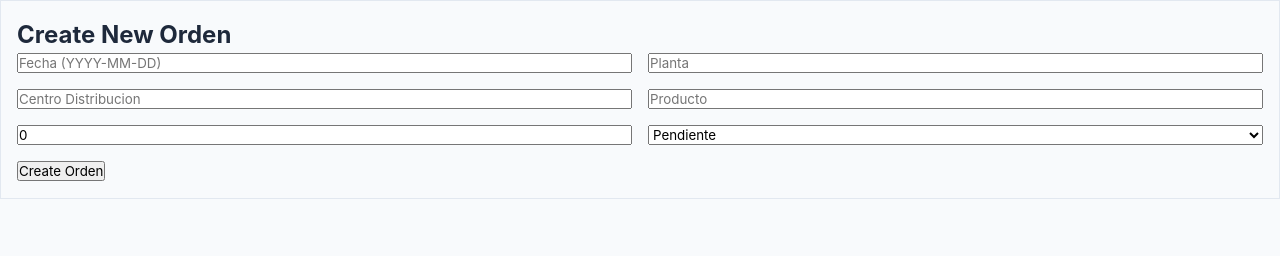
OrdenForm › shows validation errors for missing fields
Step 1. Click the button "Create Orden" → (61, 171), box top-left (17, 161), bottom-right (106, 181)
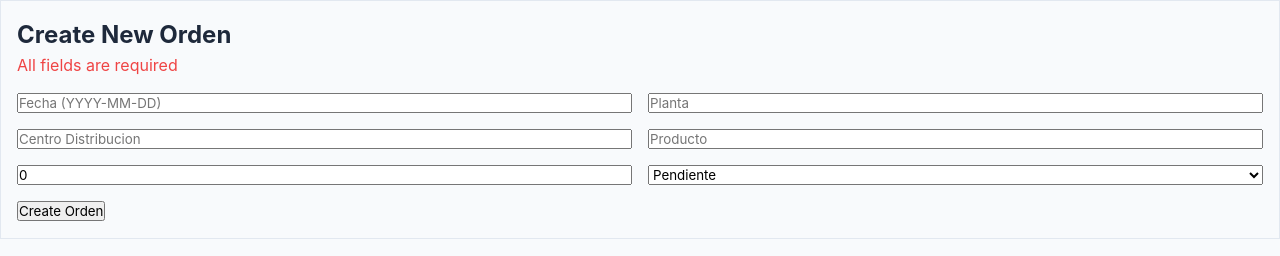
Expected: the text "All fields are required" is shown, top-left (17, 55), bottom-right (178, 75)
